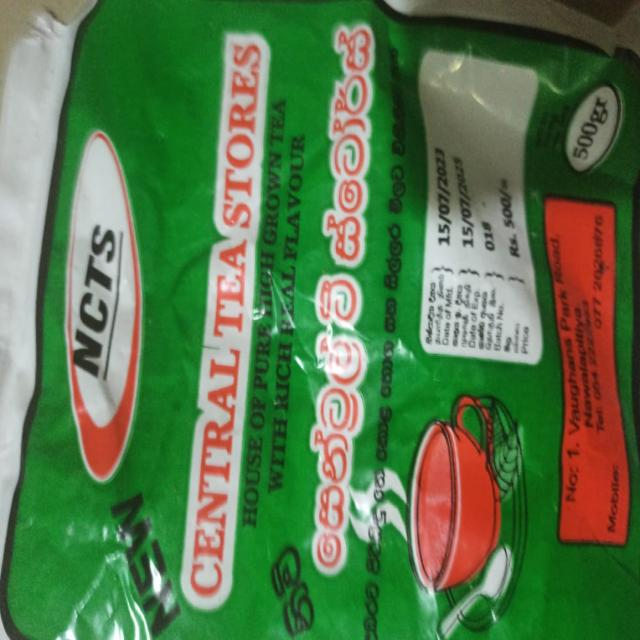Central Tea: (22, 31, 640, 640)
